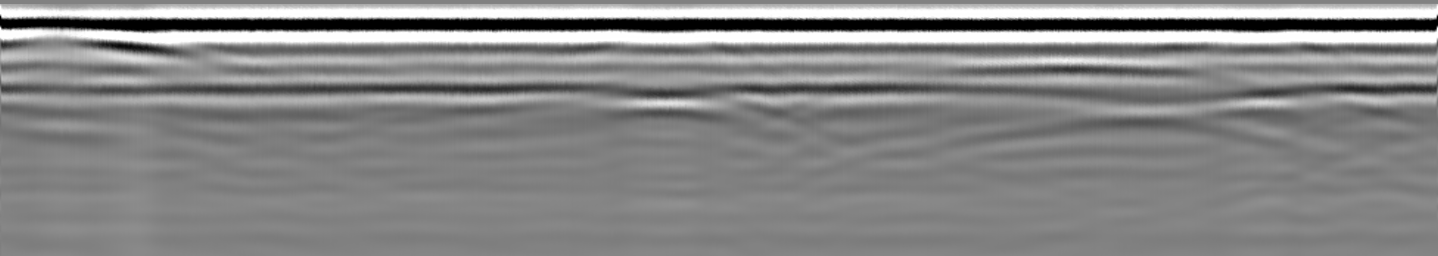pipe: (1, 17, 183, 59)
